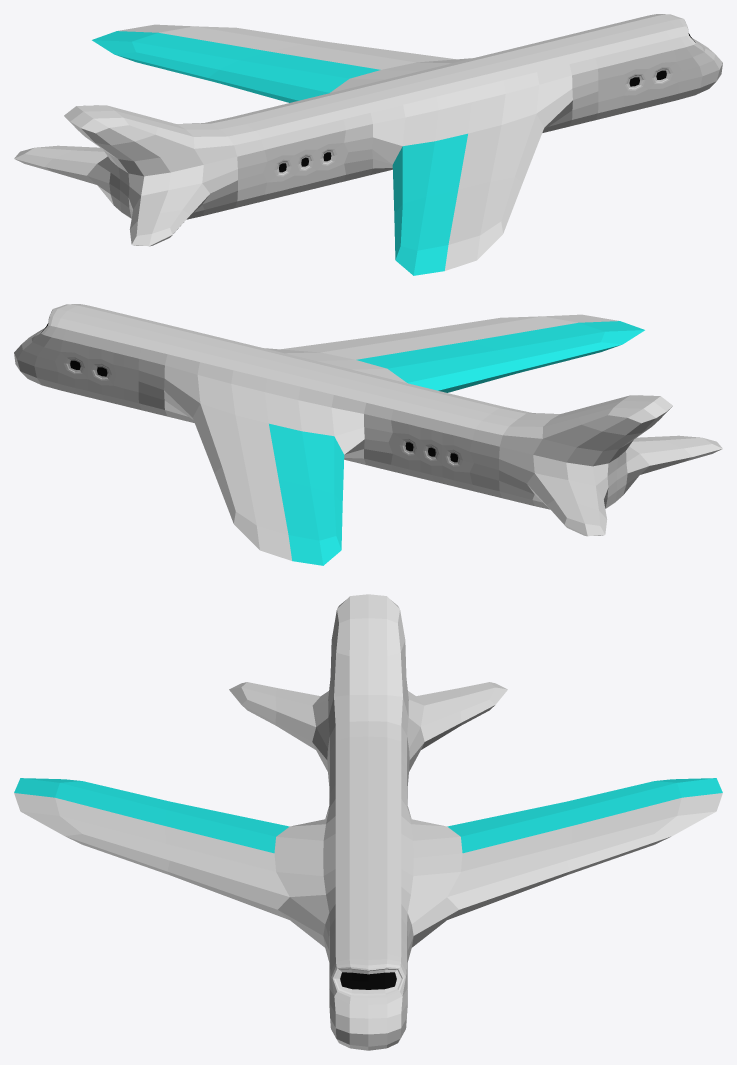
3 views of the same model, one above another, from view 1: azimuth 30°, elevation 25°; view 2: azimuth 150°, elevation 25°; view 3: azimuth 270°, elevation 25° (orthographic). The views are drawn at different scales.
Parts seen in each view (by area): view 1: 飛行機; view 2: 飛行機; view 3: 飛行機.
Part boxes in pixels (box(x1,y1,x2,y2)): 飛行機: box(14, 14, 722, 275); 飛行機: box(14, 304, 722, 565); 飛行機: box(14, 594, 722, 1050).
Size of the model in its own units: 1908 by 347 by 1678.
